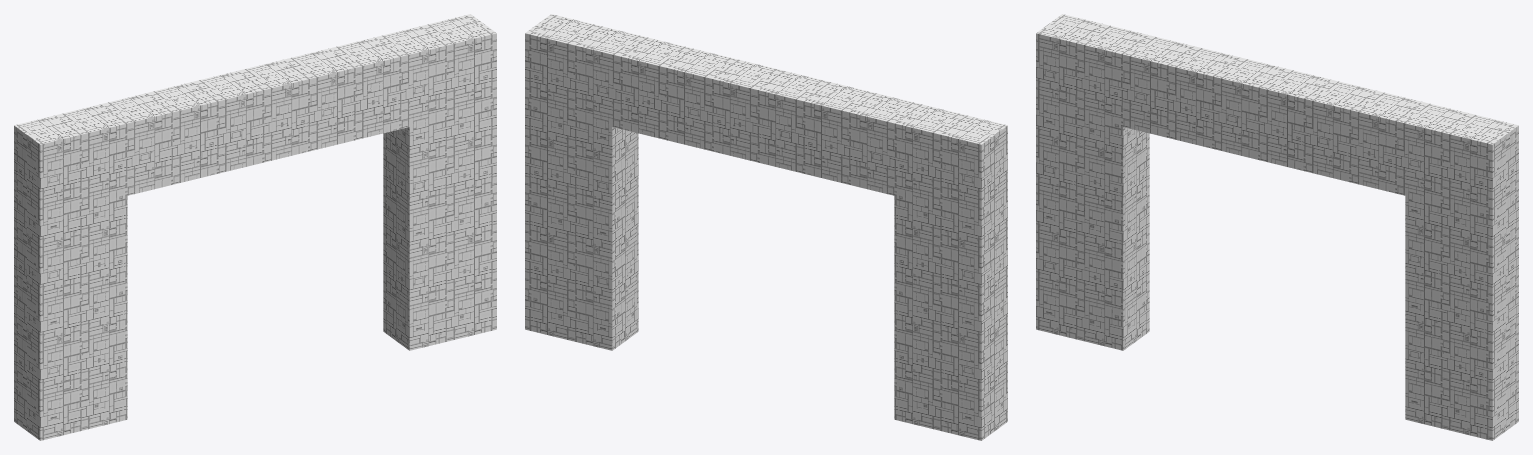
The model's file is PanelWallPortal.fbx.
3 views of the same model, side by side, from view 1: azimuth 30°, elevation 25°; view 2: azimuth 150°, elevation 25°; view 3: azimuth 330°, elevation 25° (orthographic).
Visible parts, largest first — view 1: Panel Portal; view 2: Panel Portal; view 3: Panel Portal.
Part boxes in pixels (bbox=[...]): Panel Portal: bbox=[14, 14, 496, 440]; Panel Portal: bbox=[525, 14, 1007, 440]; Panel Portal: bbox=[1036, 14, 1518, 440].
Size of the model in its own units: 1000 by 620 by 100.
Materials: 1 (1 with a texture image).
